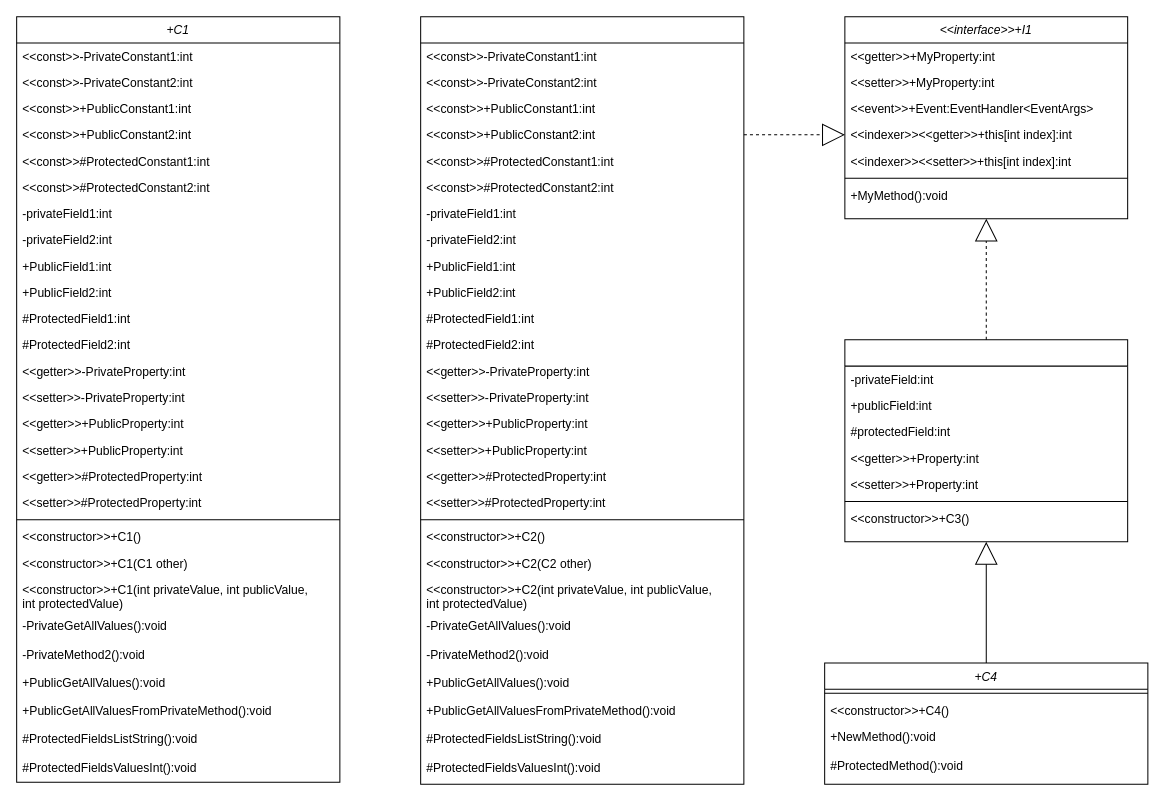
This 1165x801 diagram has some shape labels left out. The box of each missing label's shape, as (x1, y1, x2, y2) in pixels:
+C2: (420, 16, 744, 784)
+C3: (844, 339, 1128, 542)
